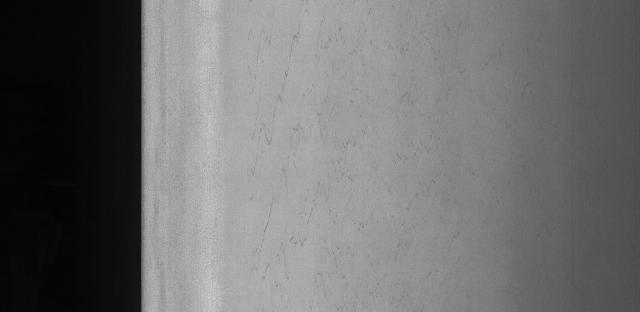silk_spot: (242, 19, 423, 274)
